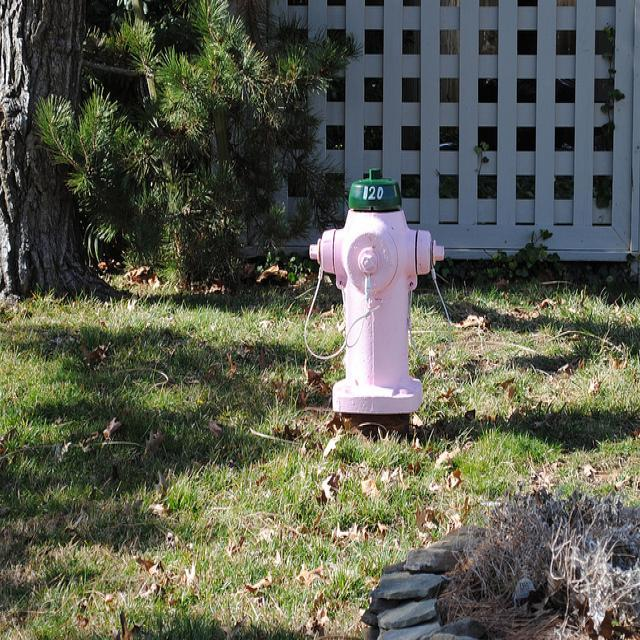fire_hydrant: (308, 166, 444, 414)
